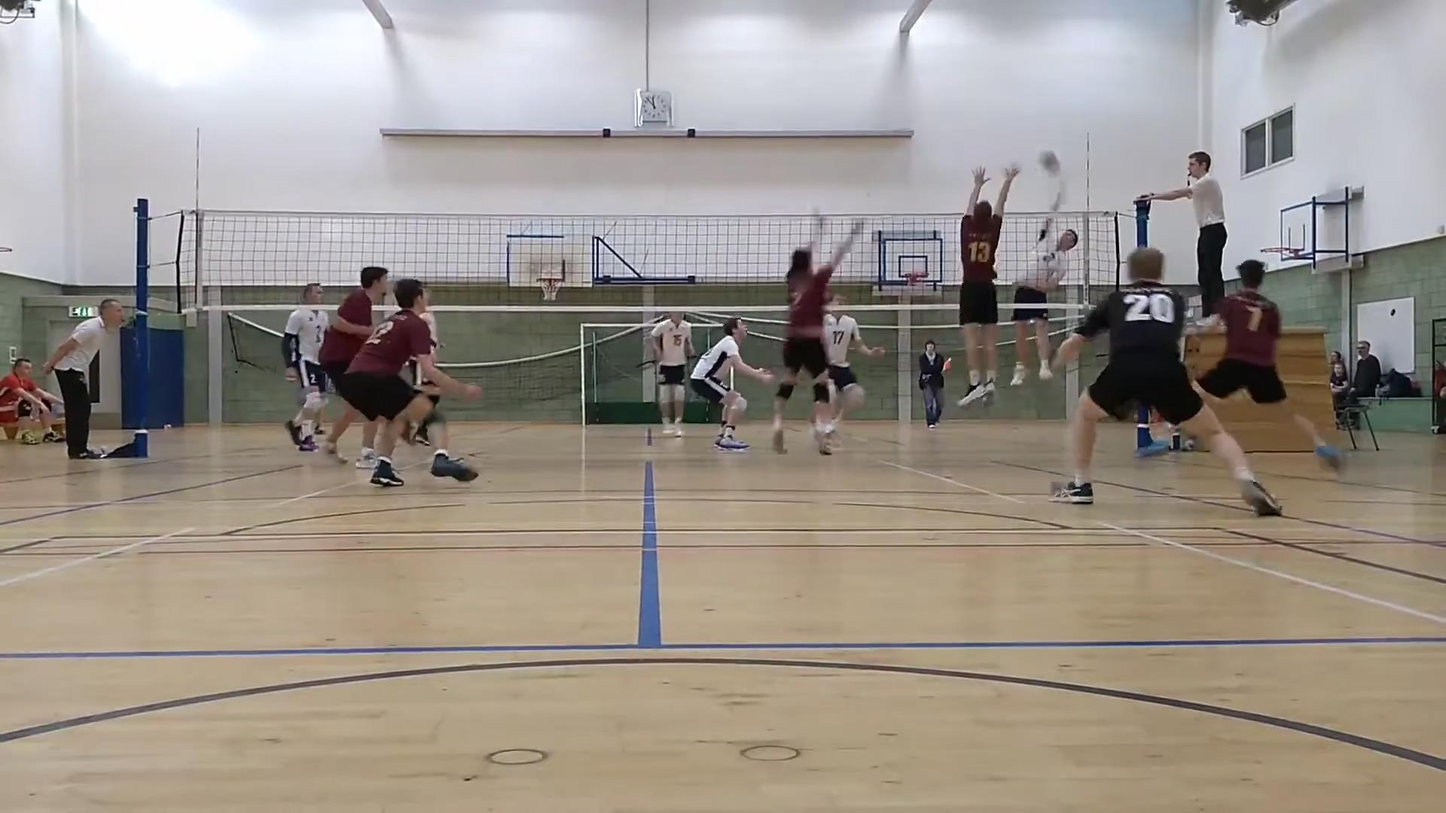attacco: (1005, 181, 1086, 388)
muro: (956, 161, 1014, 411)
